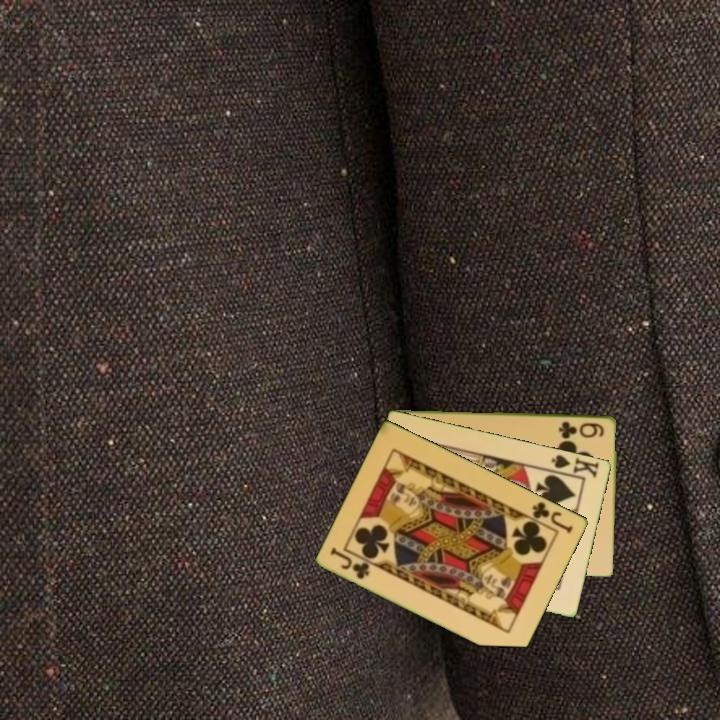6c: (555, 418, 607, 440)
Jc: (529, 498, 576, 536), (327, 544, 373, 582)
Ks: (548, 451, 602, 480)
